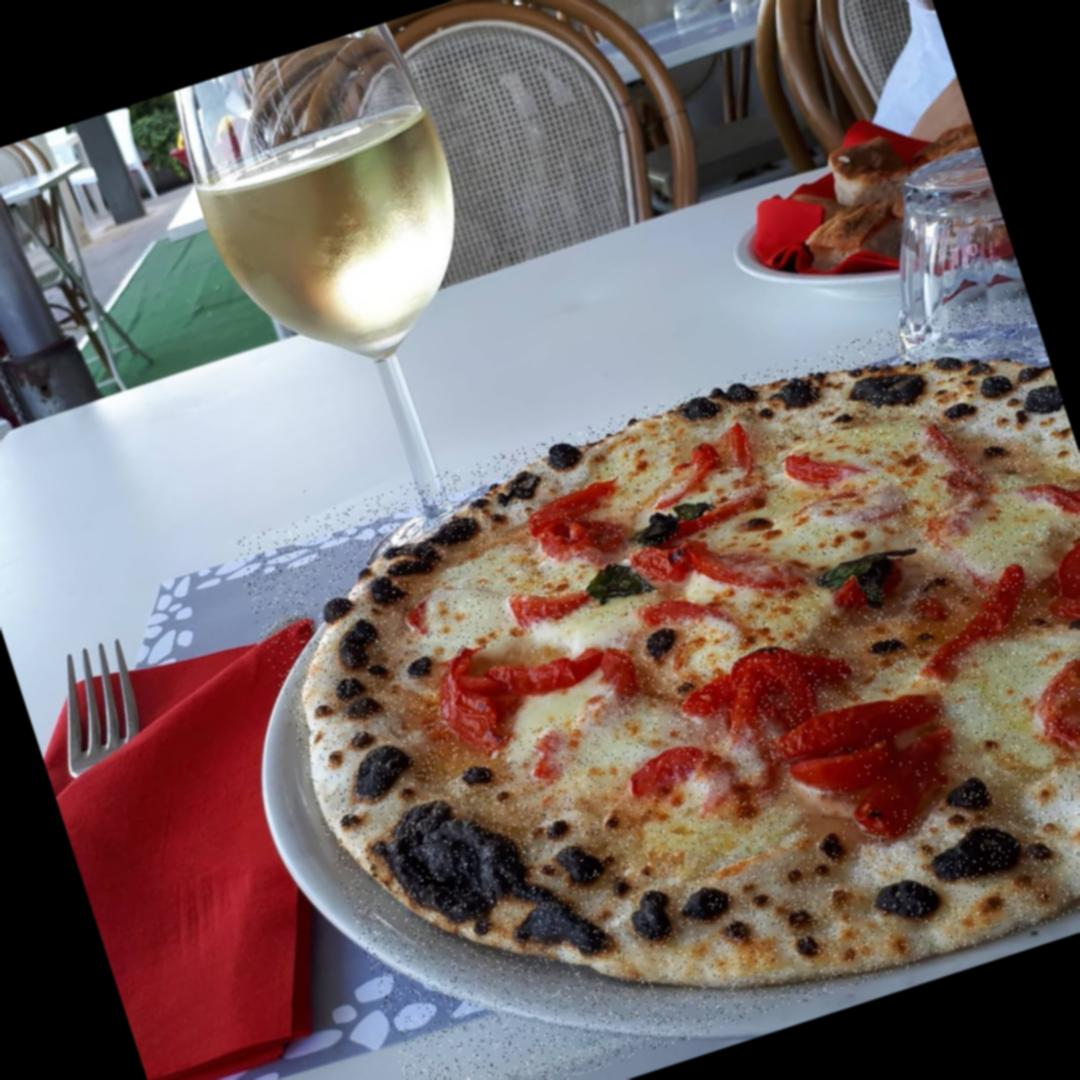Basil: (812, 536, 921, 613), (630, 492, 714, 546), (584, 554, 650, 614)
Peppers: (779, 681, 967, 852), (430, 612, 628, 752), (644, 504, 804, 622), (682, 633, 842, 747), (906, 565, 1040, 675), (621, 732, 751, 837), (642, 422, 768, 513), (536, 480, 640, 578), (1016, 631, 1080, 759), (778, 430, 866, 501), (510, 567, 598, 634), (1033, 530, 1080, 649), (830, 557, 915, 618)
Pizza: (230, 283, 1080, 1080)
